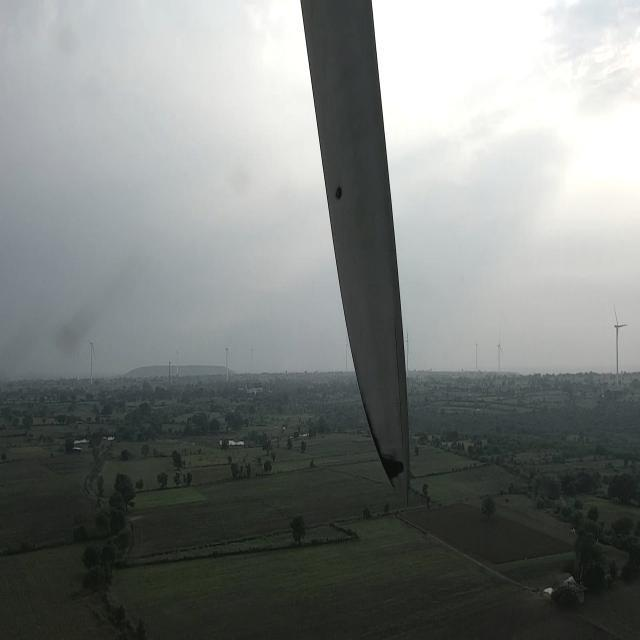Pin_Hole: (327, 183, 347, 204)
oil_leakage: (360, 391, 405, 488)
